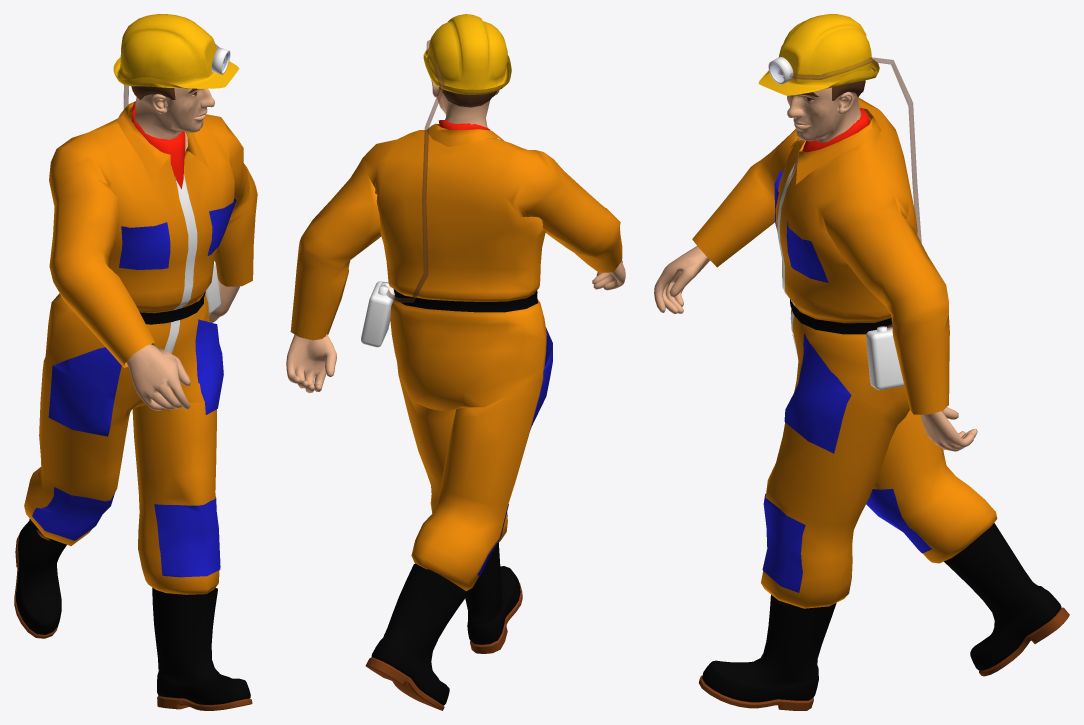
File: worker.dae
3 views of the same model, side by side, from view 1: azimuth 30°, elevation 25°; view 2: azimuth 150°, elevation 25°; view 3: azimuth 270°, elevation 25° (orthographic). The views are drawn at different scales.
Visible parts, largest first — view 1: Group_001; view 2: Group_001; view 3: Group_001.
Part boxes in pixels (x1,y1,x2,y2): Group_001: [14, 14, 257, 710]; Group_001: [286, 14, 625, 710]; Group_001: [654, 14, 1069, 710].
Size of the model in its own units: 1.24 by 1.64 by 3.01.
